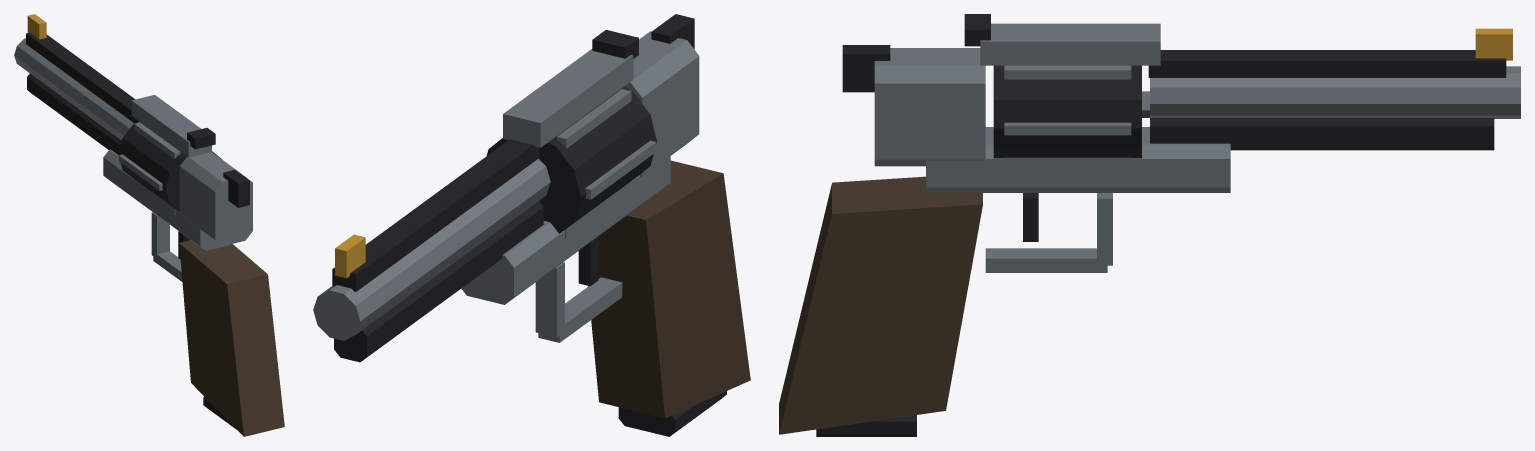
File: revolver.glb
3 views of the same model, side by side, from view 1: azimuth 30°, elevation 25°; view 2: azimuth 150°, elevation 25°; view 3: azimuth 270°, elevation 25° (orthographic). The views are drawn at different scales.
Parts seen in each view (by area): view 1: revolver; view 2: revolver; view 3: revolver.
Part boxes in pixels (bbox=[...]): revolver: bbox=[14, 14, 284, 436]; revolver: bbox=[313, 14, 750, 436]; revolver: bbox=[779, 14, 1520, 436].
Bounding box in the file's own units: 0.046 × 0.1685 × 0.28.
1 material, 1 textured.
